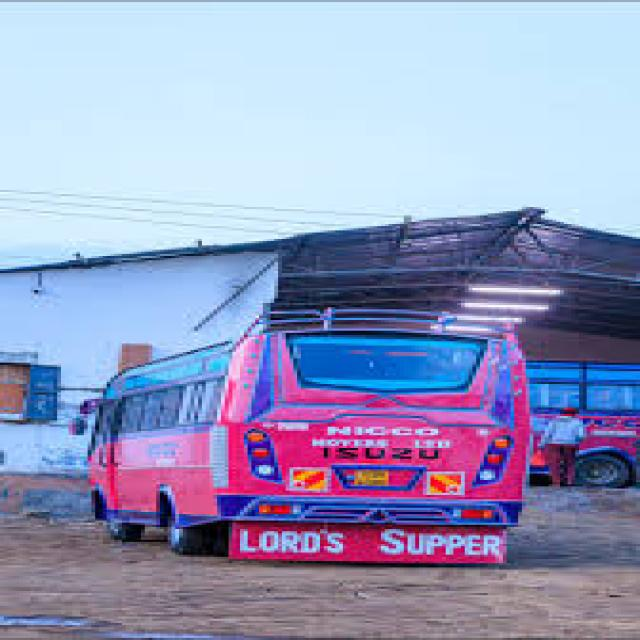bus: (32, 305, 610, 583)
